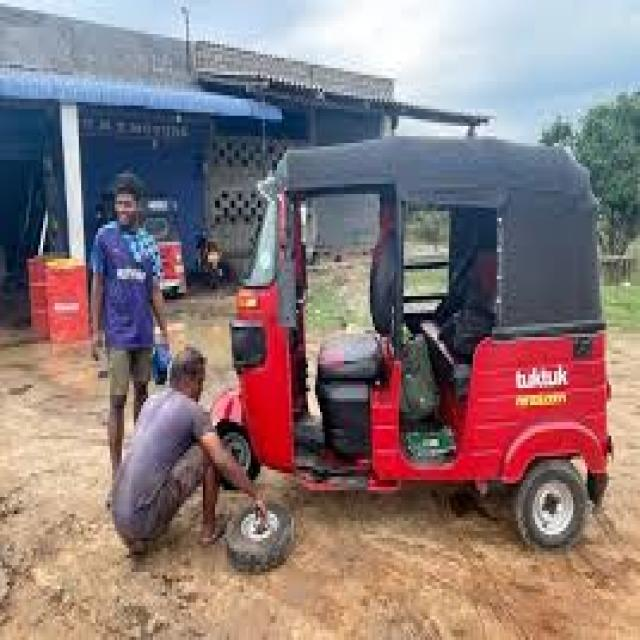tuktuk: (55, 61, 626, 589)
